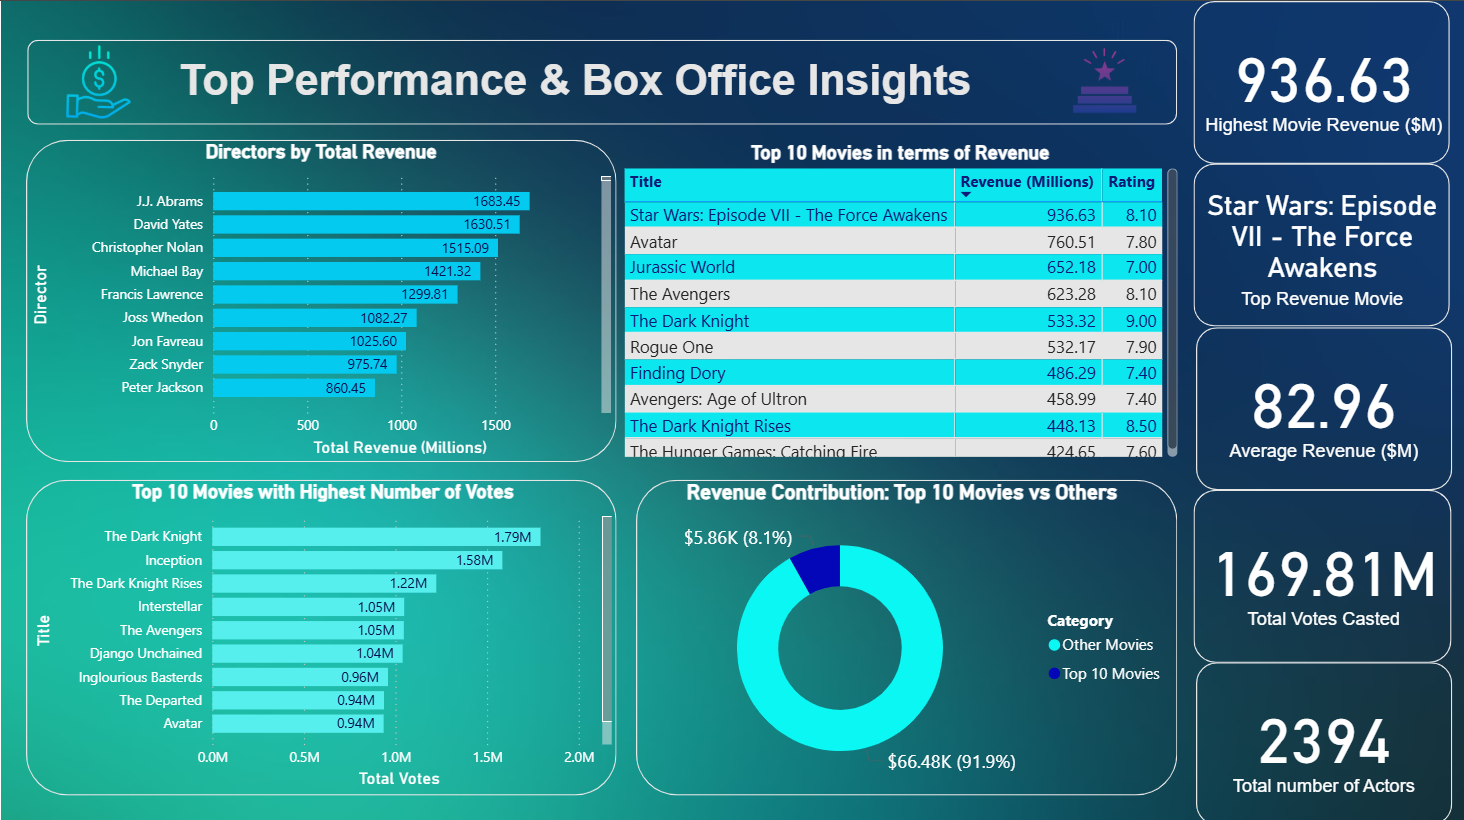

The dashboard page shown, as its layout file describes it:
{"tool":"powerbi","page":{"name":"Page 3","canvas":[1280,720],"ordinal":2},"visuals":[{"type":"group","id":"g1","title":"Group 1","box":[13.3,34.1,1014.3,74.1],"z":0},{"type":"shape","box":[22.9,34.1,1004.7,74.1],"z":0,"group":"g1"},{"type":"textbox","box":[150.7,42.8,775.5,65.2],"z":1000,"group":"g1"},{"type":"shape","box":[22.2,121.6,516,281.7],"z":1000},{"type":"image","box":[13.3,34.1,143.9,74.1],"z":2000,"group":"g1"},{"type":"clusteredBarChart","title":"Directors by Total Revenue","fields":{"Category":["IMDB-Movies.Director"],"Y":["Sum(IMDB-Movies.Revenue (Millions))"]},"box":[22.2,121.6,516,281.7],"z":2000},{"type":"image","box":[901.5,34.1,126.1,71.7],"z":3000,"group":"g1"},{"type":"shape","box":[22.2,418.2,516,275.8],"z":3000},{"type":"shape","box":[554.6,418.2,473,275.8],"z":4000},{"type":"clusteredBarChart","title":"Top 10 Movies with Highest Number of Votes","fields":{"Category":["IMDB-Movies.Title"],"Y":["Sum(IMDB-Movies.Votes)"]},"box":[23.7,418.2,514.6,274.3],"z":5000},{"type":"tableEx","title":"Top 10 Movies in terms of Revenue","fields":{"Values":["IMDB-Movies.Title","IMDB-Movies.Revenue (Millions)","IMDB-Movies.Rating"]},"box":[538.1,121.9,494.6,281.1],"z":6000},{"type":"shape","box":[1042.5,0,223.9,142.4],"z":7000},{"type":"shape","box":[1042.5,142.4,223.9,142.4],"z":8000},{"type":"shape","box":[1043.9,284.7,223.9,142.4],"z":9000},{"type":"shape","box":[1042.5,427.1,225.4,151.3],"z":10000},{"type":"shape","box":[1043.9,578.3,223.9,142.4],"z":11000},{"type":"card","fields":{"Values":["IMDB-Movies.Highest Revenue"]},"box":[1043.9,0,223.9,142.4],"z":12000},{"type":"card","fields":{"Values":["IMDB-Movies.Top Revenue Movie"]},"box":[1042.5,142.4,225.4,142.4],"z":13000},{"type":"card","fields":{"Values":["IMDB-Movies.Average Revenue"]},"box":[1043.9,284.7,223.9,142.4],"z":14000},{"type":"card","fields":{"Values":["Sum(IMDB-Movies.Votes)"]},"box":[1043.9,427.1,223.9,151.3],"z":15000},{"type":"card","fields":{"Values":["Count(IMDB-Actors.Actor)"]},"box":[1043.9,578.3,223.9,142.4],"z":16000},{"type":"donutChart","title":"Revenue ($M) Contribution: Top 10 Movies vs Others","fields":{"Category":["Revenue Category.Category"],"Y":["Revenue Category.Category Revenue"]},"box":[547.7,418.6,480.2,273.9],"z":17000}]}

Visuals, with their boxes in screenshot pixels (x1, y1, x2, y2), scaled from the page's 1280x720 canvas onto the 1464x820 screenshot:
"Group 1" group: 15:39:1175:123
shape: 26:39:1175:123
textbox: 172:49:1059:123
shape: 25:138:616:459
image: 15:39:180:123
"Directors by Total Revenue" clusteredBarChart: 25:138:616:459
image: 1031:39:1175:120
shape: 25:476:616:790
shape: 634:476:1175:790
"Top 10 Movies with Highest Number of Votes" clusteredBarChart: 27:476:616:789
"Top 10 Movies in terms of Revenue" tableEx: 615:139:1181:459
shape: 1192:0:1448:162
shape: 1192:162:1448:324
shape: 1194:324:1450:486
shape: 1192:486:1450:659
shape: 1194:659:1450:819
card - IMDB-Movies.Highest Revenue: 1194:0:1450:162
card - IMDB-Movies.Top Revenue Movie: 1192:162:1450:324
card - IMDB-Movies.Average Revenue: 1194:324:1450:486
card - Sum(IMDB-Movies.Votes): 1194:486:1450:659
card - Count(IMDB-Actors.Actor): 1194:659:1450:819
"Revenue ($M) Contribution: Top 10 Movies vs Others" donutChart: 626:477:1176:789
